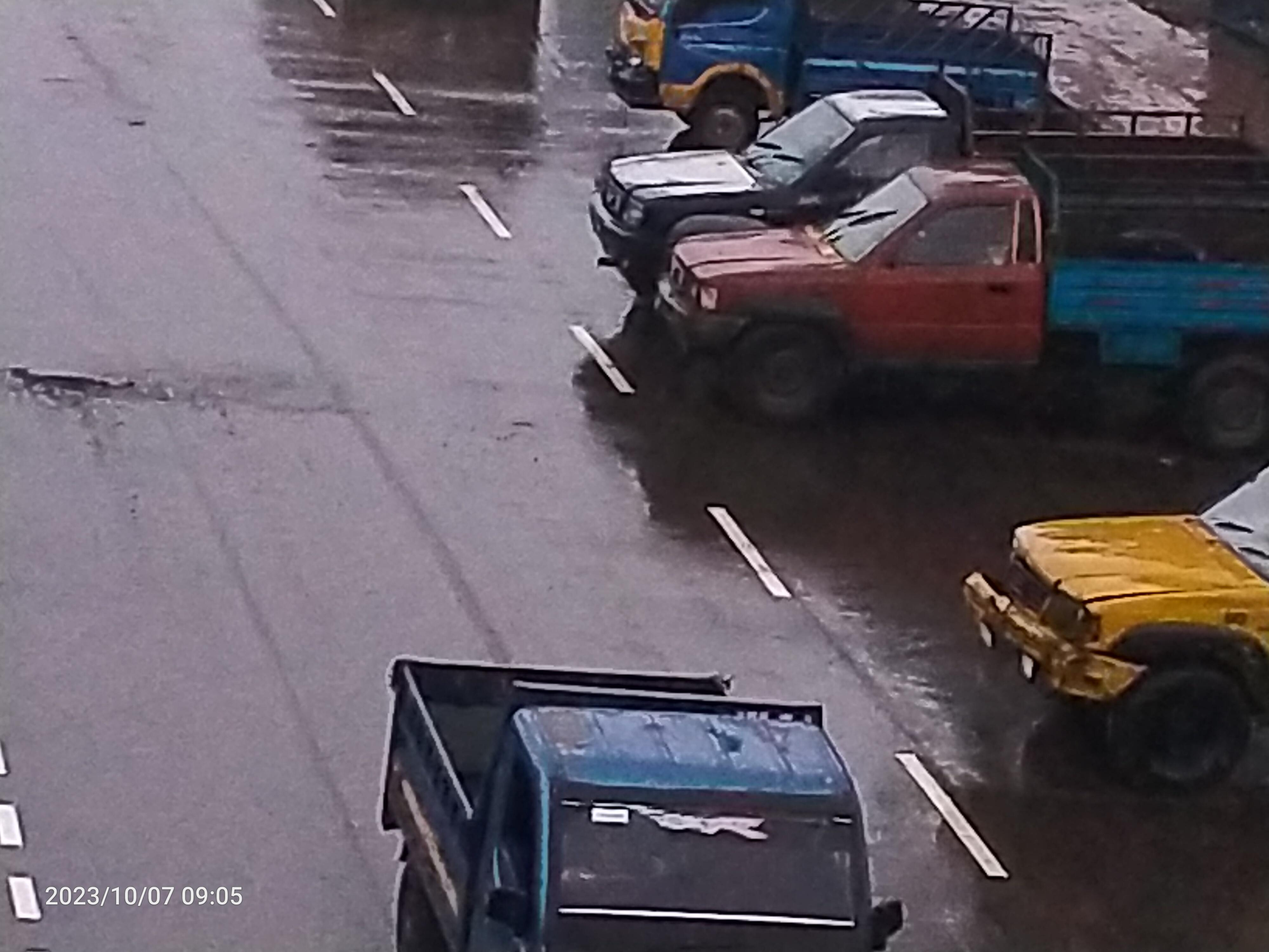Truck: (654, 121, 1269, 454), (325, 609, 914, 952), (518, 54, 1269, 323), (938, 370, 1269, 816), (553, 0, 1130, 142)
